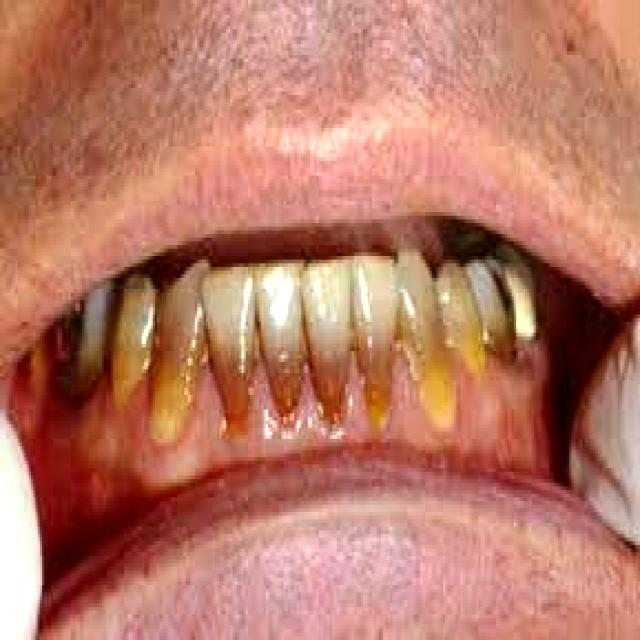tooth-discoloration: (151, 260, 208, 443), (396, 249, 454, 428), (202, 267, 257, 432), (303, 260, 352, 421), (255, 260, 303, 421), (352, 256, 396, 428), (111, 274, 155, 406), (436, 260, 483, 373)
